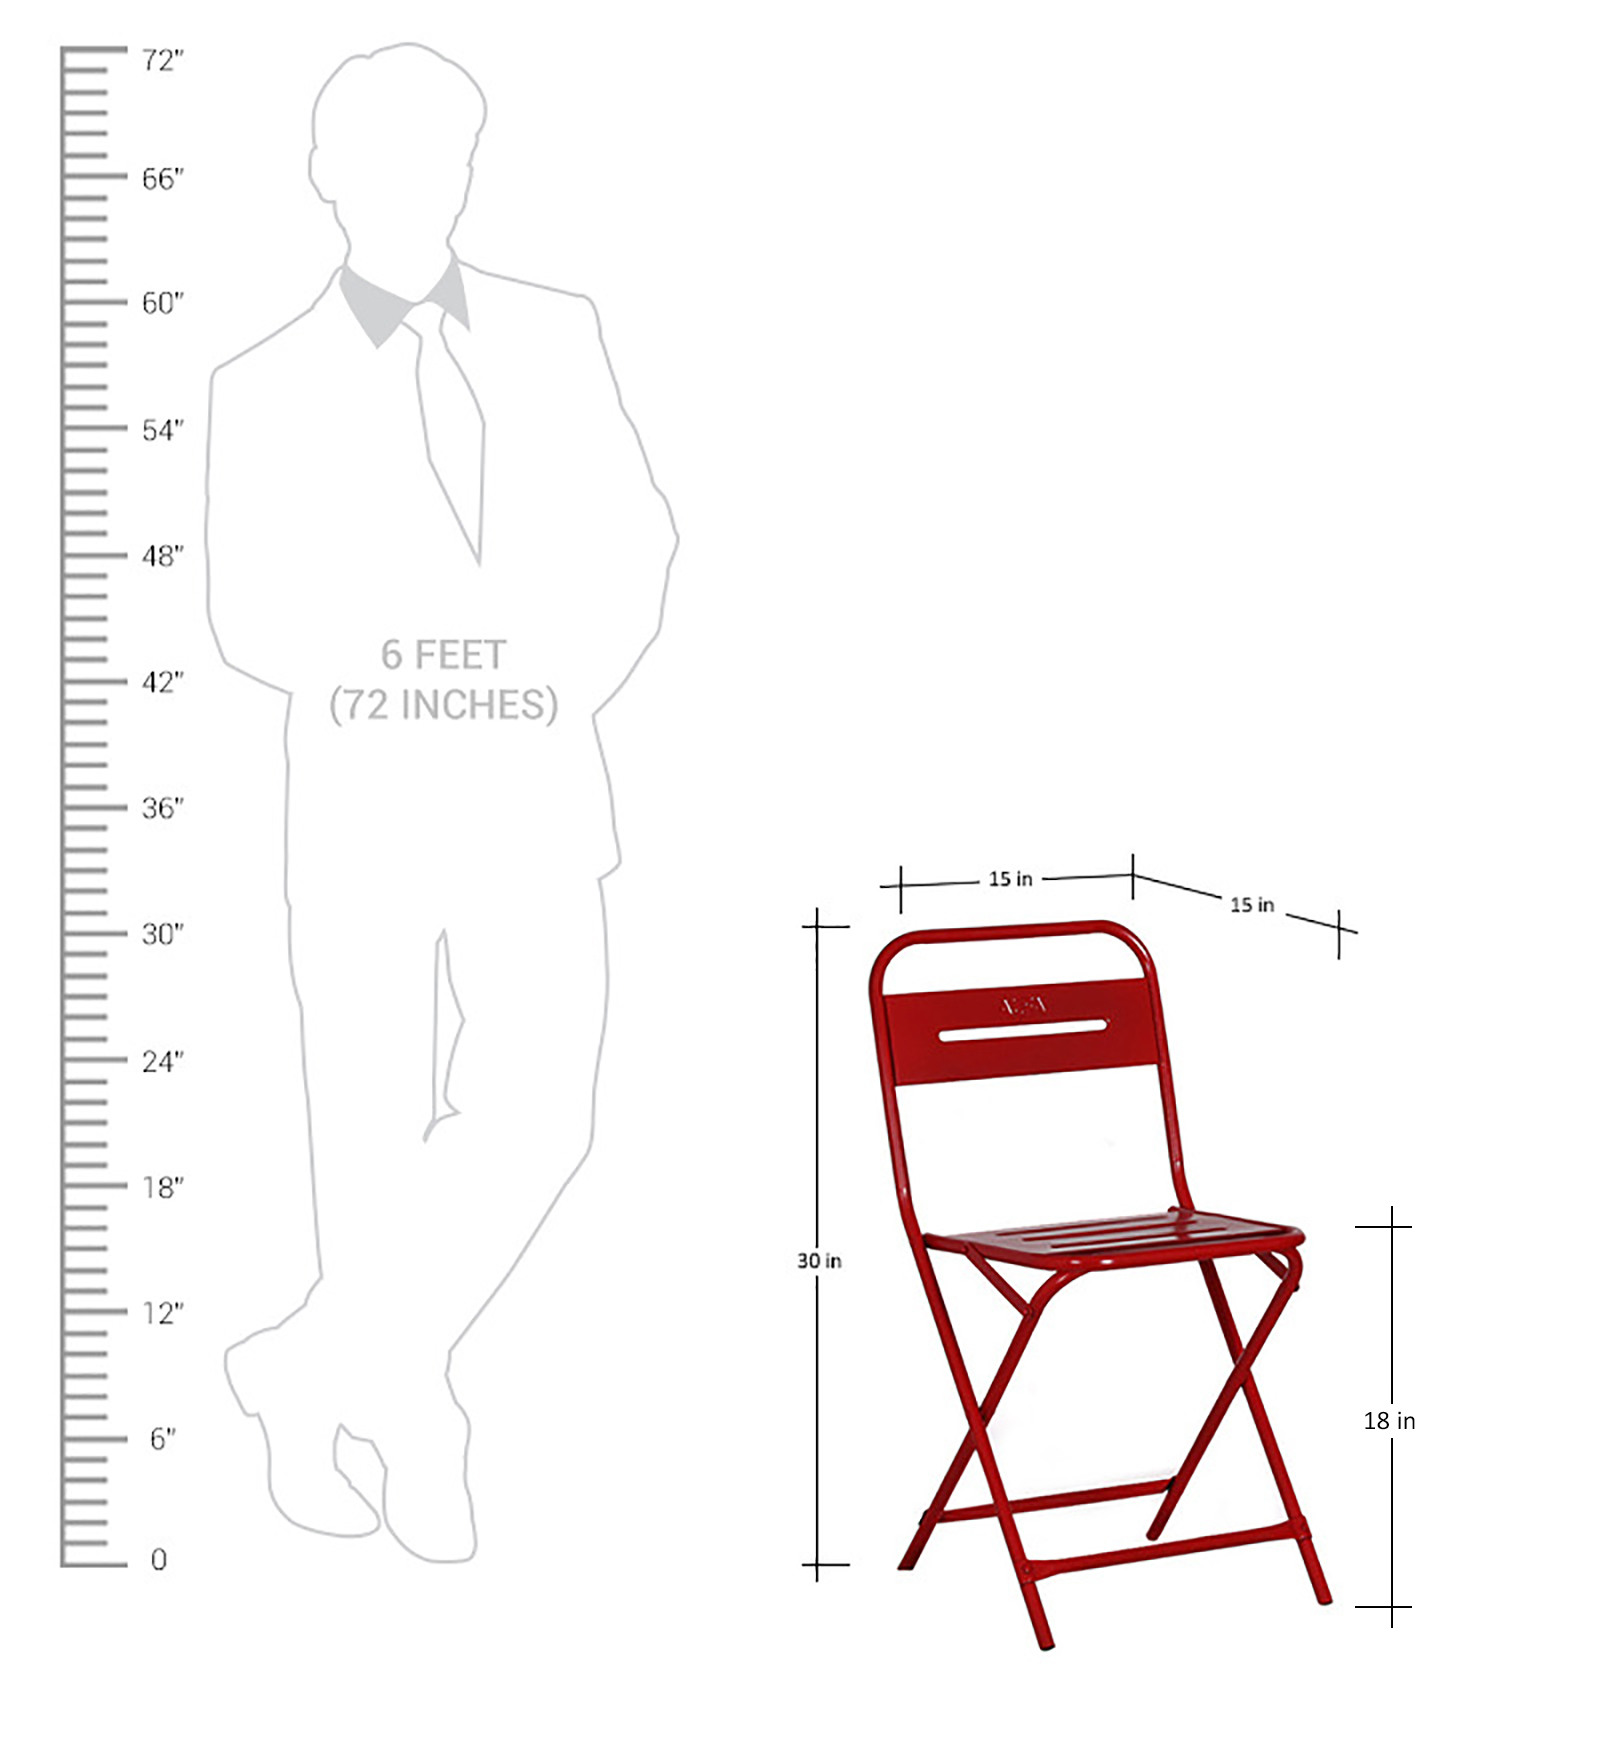Marandoo Grunge Red Outdoor Folding Chair by Bohemiana: (864, 918, 1336, 1657)
